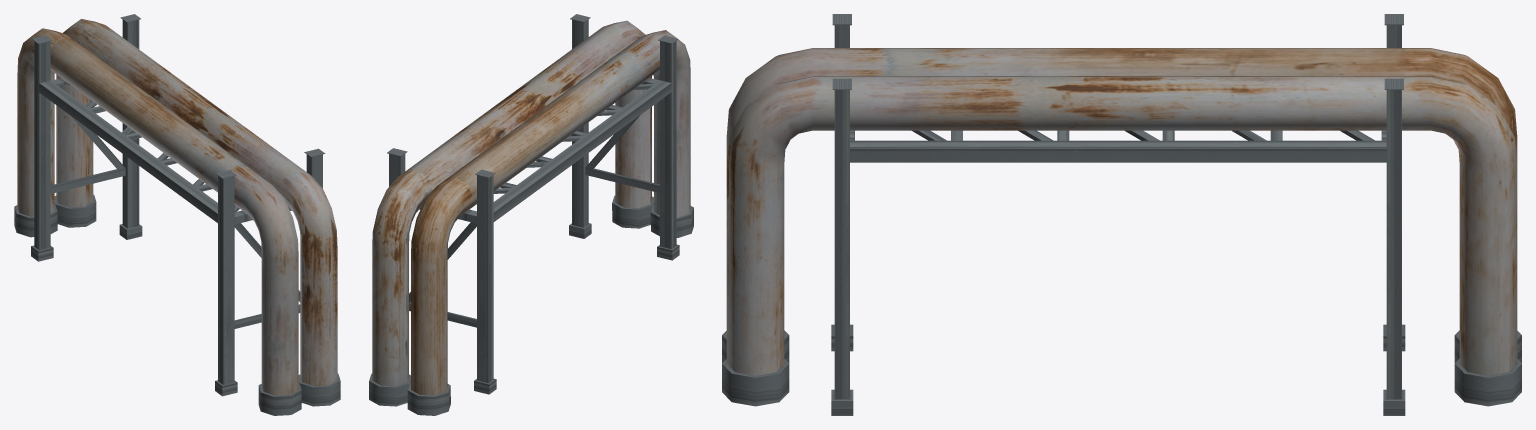
Rendered from PipesMetal01.FBX.
3 renders of one model, left to right at view 1: azimuth 30°, elevation 25°; view 2: azimuth 150°, elevation 25°; view 3: azimuth 270°, elevation 25°, orthographic. The views are drawn at different scales.
Parts seen in each view (by area): view 1: PipesMetal01; view 2: PipesMetal01; view 3: PipesMetal01.
Part boxes in pixels (<box>): PipesMetal01: <box>14,14,340,415</box>; PipesMetal01: <box>369,14,693,415</box>; PipesMetal01: <box>722,14,1521,415</box>.
Bounding box in the file's own units: 48.91 × 97.88 × 217.
